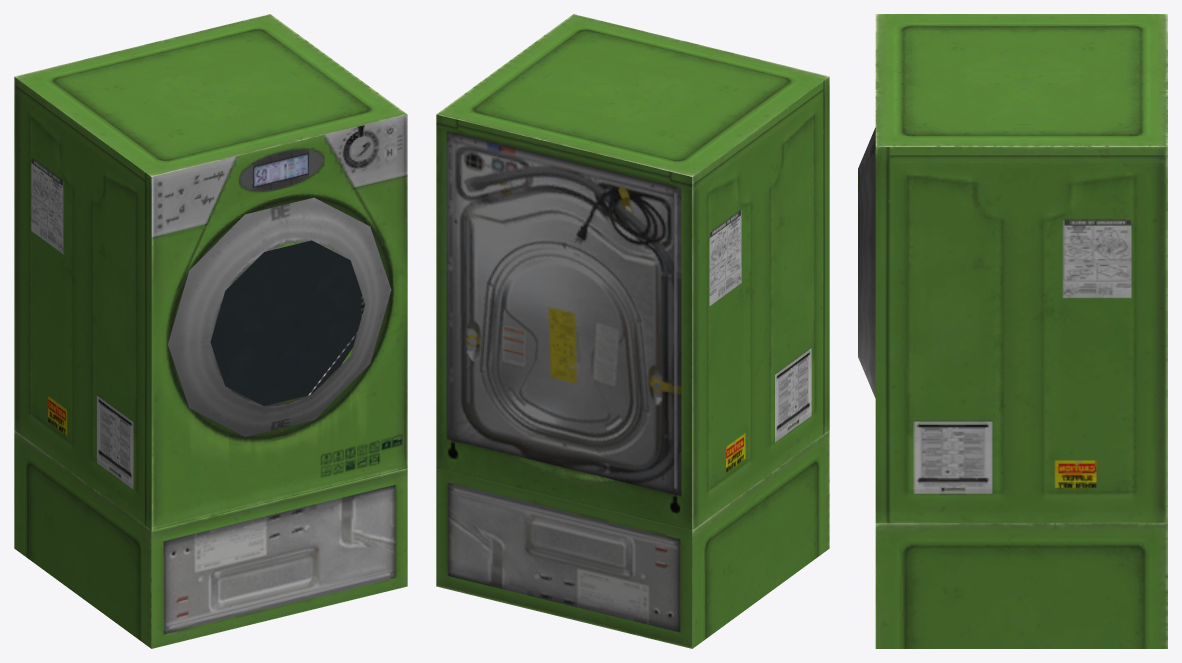
File: machinery_washer_green_lod2.glb
3 renders of one model, left to right at view 1: azimuth 30°, elevation 25°; view 2: azimuth 150°, elevation 25°; view 3: azimuth 270°, elevation 25°, orthographic. The views are drawn at different scales.
Parts seen in each view (by area): view 1: surf0, surf1; view 2: surf0; view 3: surf0.
Part boxes in pixels (x1,y1,x2,y2): surf0: [14, 14, 407, 648]; surf1: [210, 240, 361, 406]; surf0: [436, 14, 829, 648]; surf0: [858, 14, 1167, 648].
Bounding box in the file's own units: 31.49 × 55.43 × 30.99.
